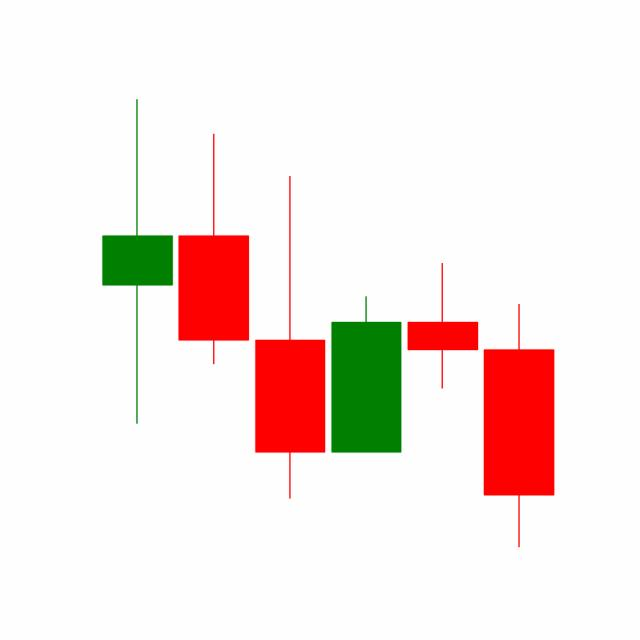Spinning Top: (403, 261, 481, 391)
